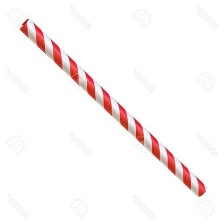drinking_straw: (12, 13, 213, 201)
